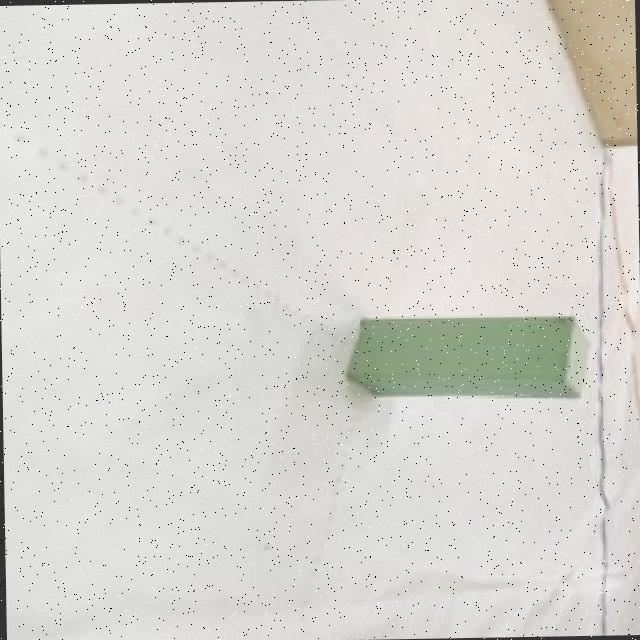greenbox: (342, 310, 590, 408)
